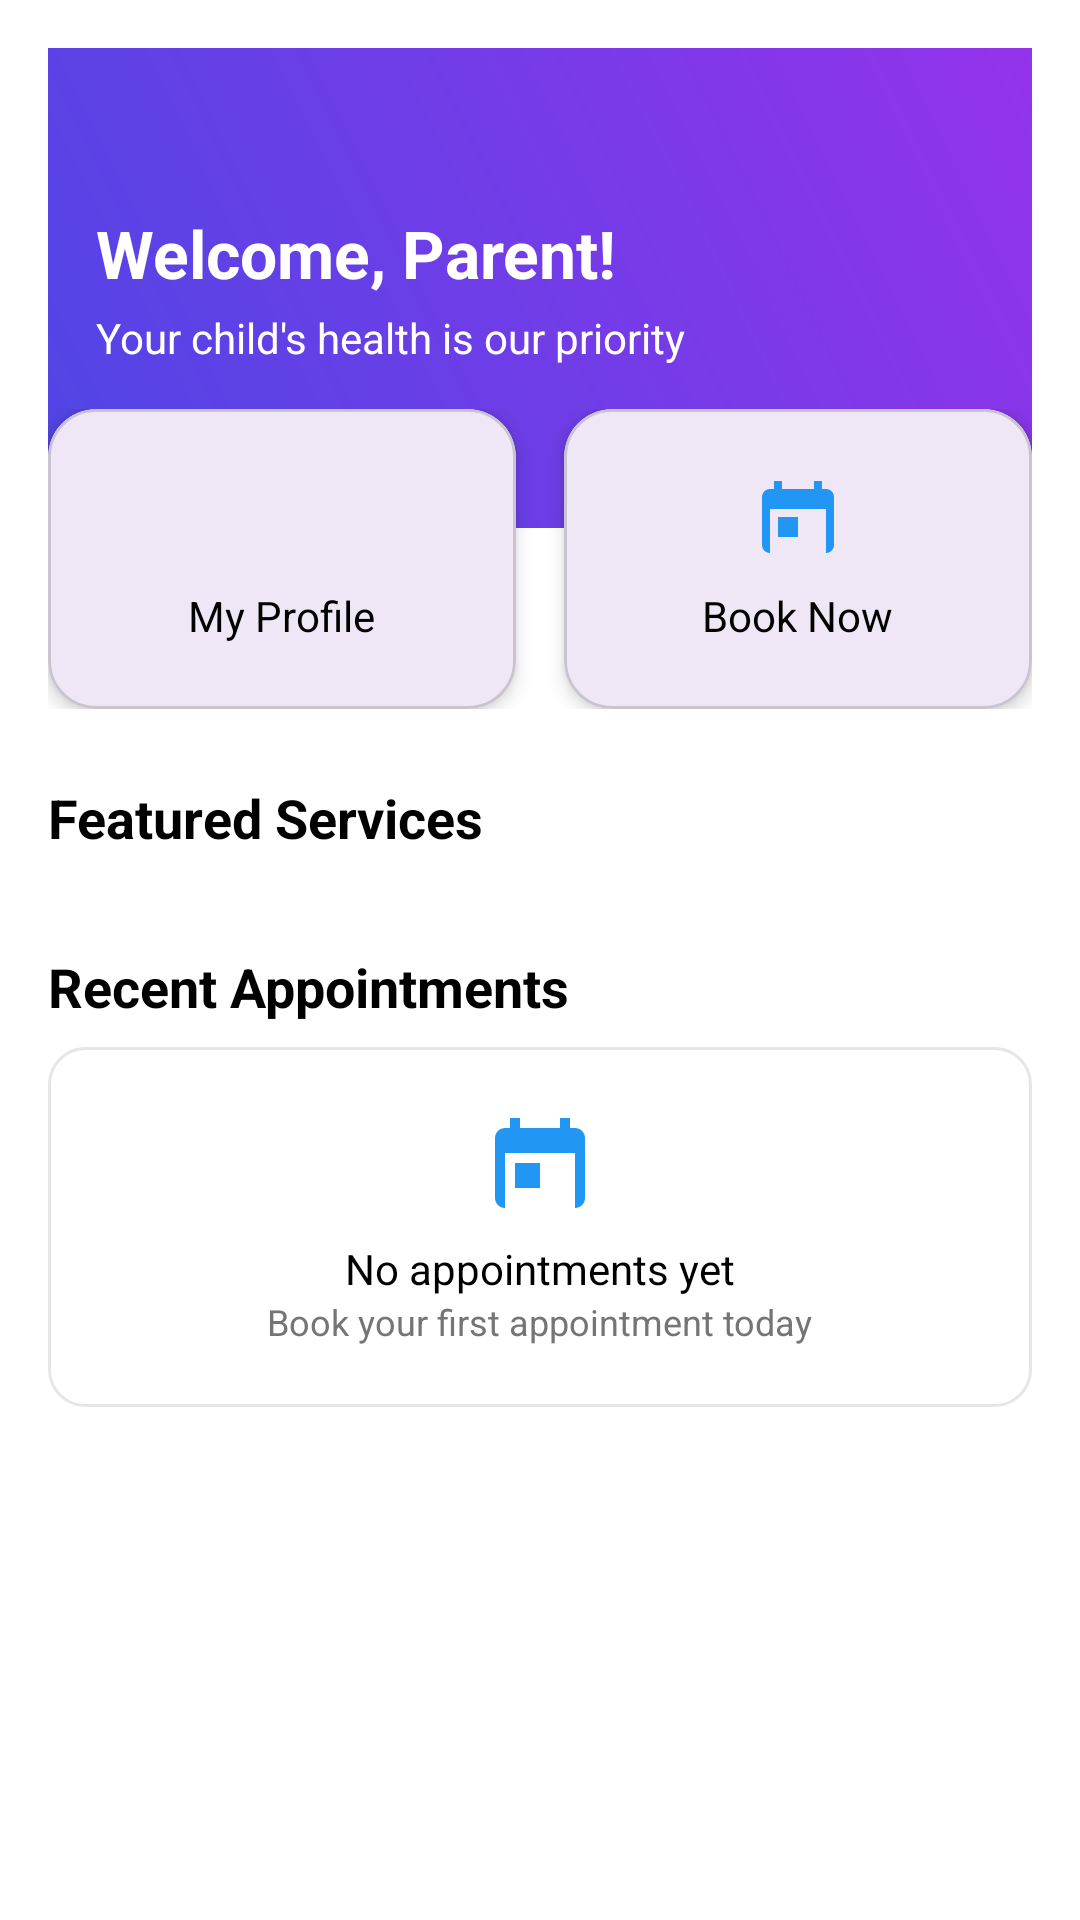

Point at icon controls on the screen. Image size 1080 × 1920, points as (x,y).
Book appointment: (798,517)
